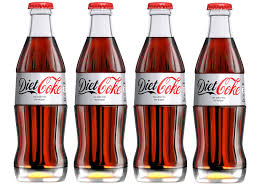coke-glass-bottle: (14, 1, 68, 181), (134, 4, 188, 183), (193, 2, 245, 186), (75, 1, 126, 182)
